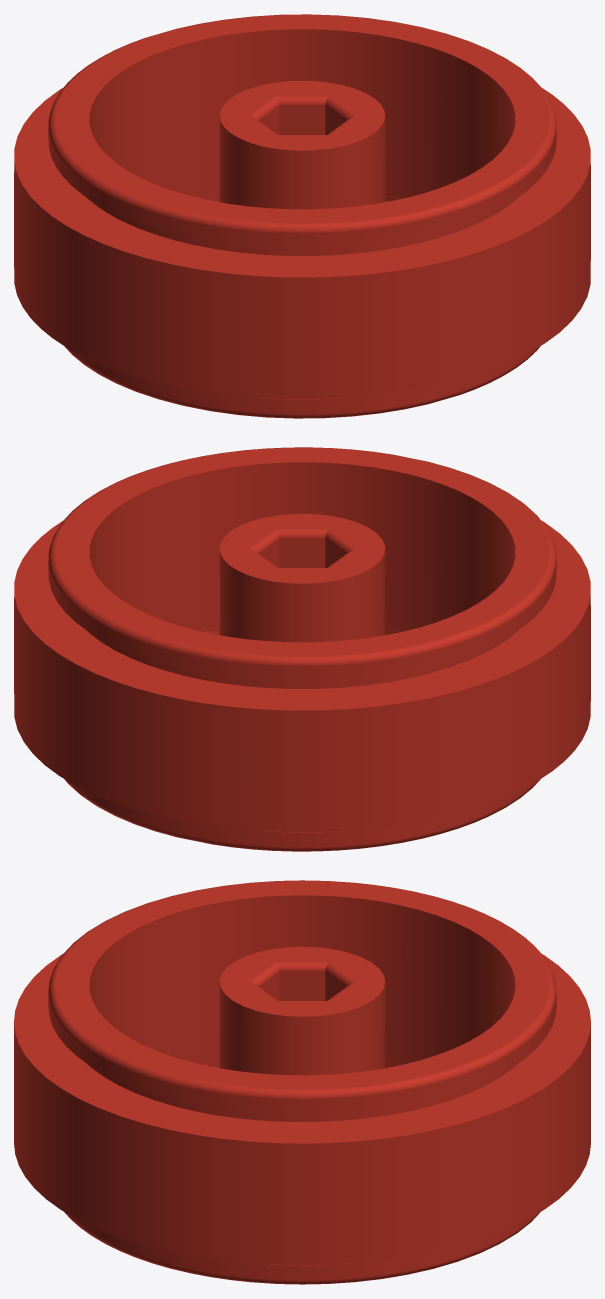
The model's file is RC Wheel_.fbx.
3 views of the same model, one above another, from view 1: azimuth 30°, elevation 25°; view 2: azimuth 150°, elevation 25°; view 3: azimuth 270°, elevation 25° (orthographic).
Visible parts, largest first — view 1: Body1; view 2: Body1; view 3: Body1.
Part boxes in pixels (box(x1,y1,x2,y2)): Body1: box(14, 14, 590, 418); Body1: box(14, 447, 590, 851); Body1: box(14, 880, 590, 1284).
Size of the model in its own units: 38.4 by 14.53 by 38.4.
